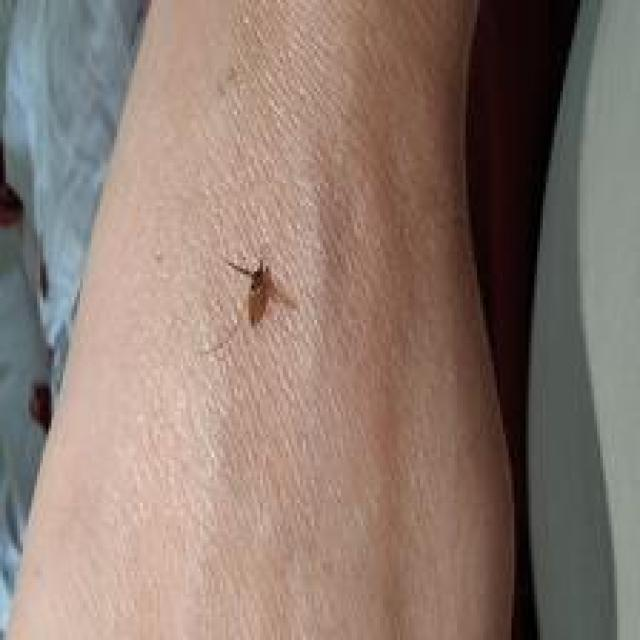Culex: (226, 257, 297, 329)
